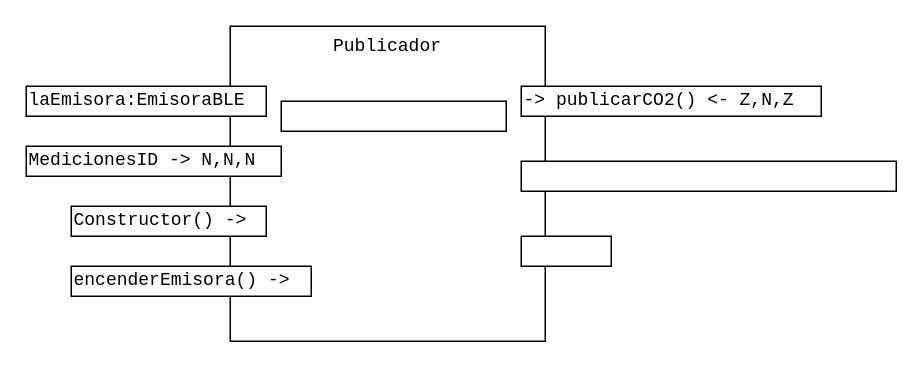
The diagram is 923 pixels wide and 368 high, and some of its shapes have lost their labels. Each missing label, with the centre of its shape:
-> publicarTemperatura() <- Z,N,Z: the point at 708,175
beaconUUID:[Texto]: the point at 393,115
RSSI:Z: the point at 565,250
